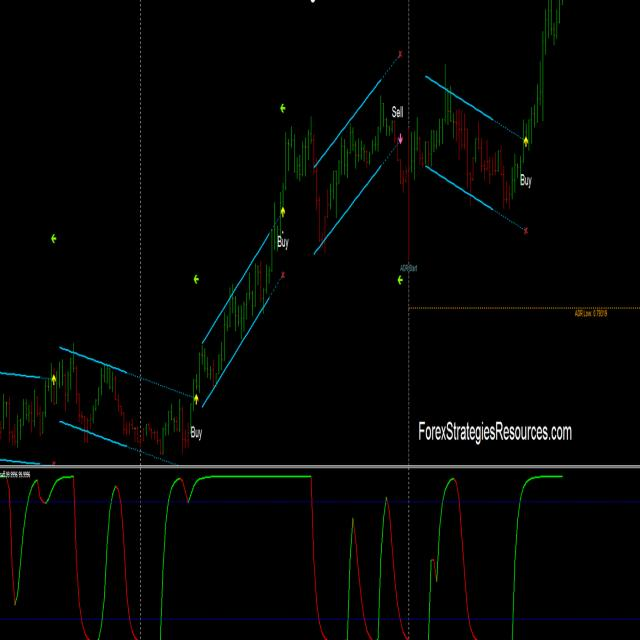Channel-down: (45, 350, 200, 465), (407, 83, 526, 217)
Channel-up: (309, 69, 395, 256), (194, 228, 279, 407)
